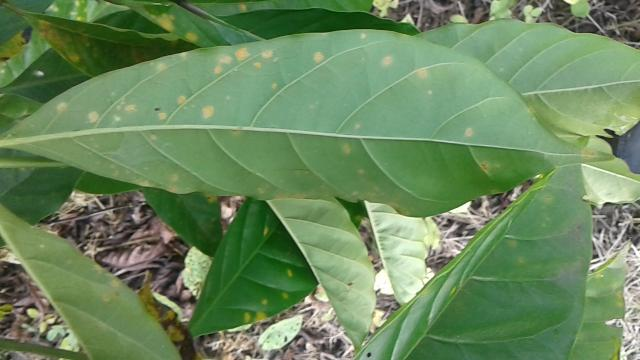rust_level_2: (0, 24, 628, 218)
